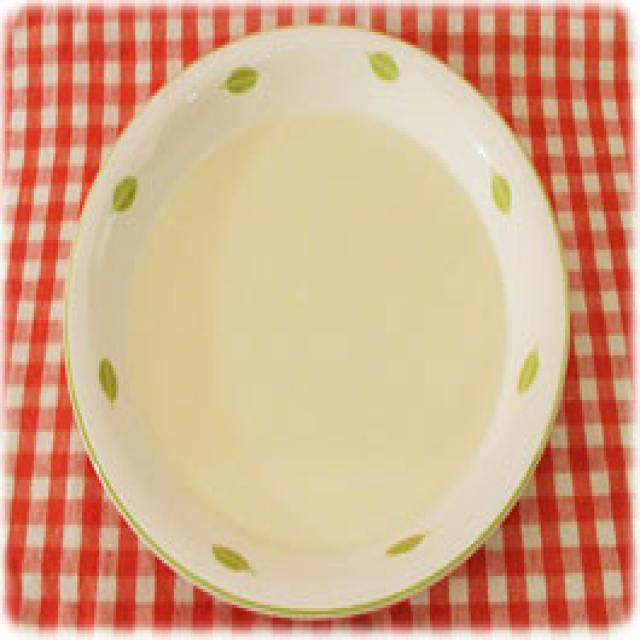汤锅炖物: (56, 16, 565, 611)
